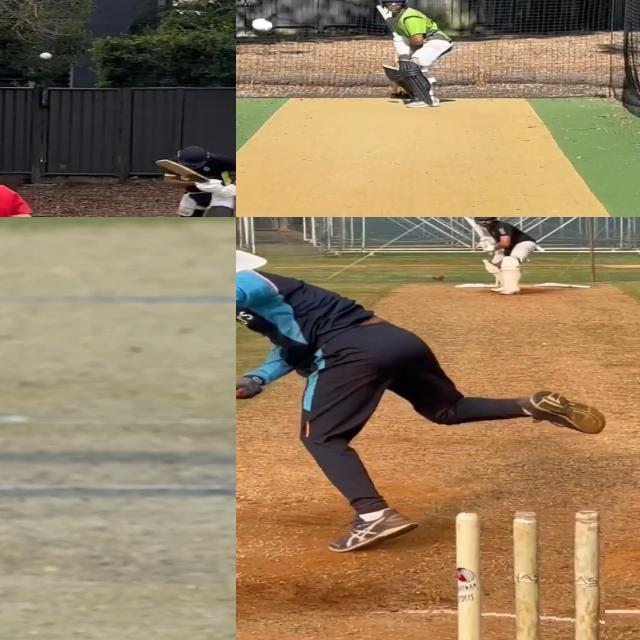Cricket ball: (247, 16, 275, 33), (39, 52, 53, 60), (431, 274, 445, 281)
Stumps: (442, 509, 604, 640)
